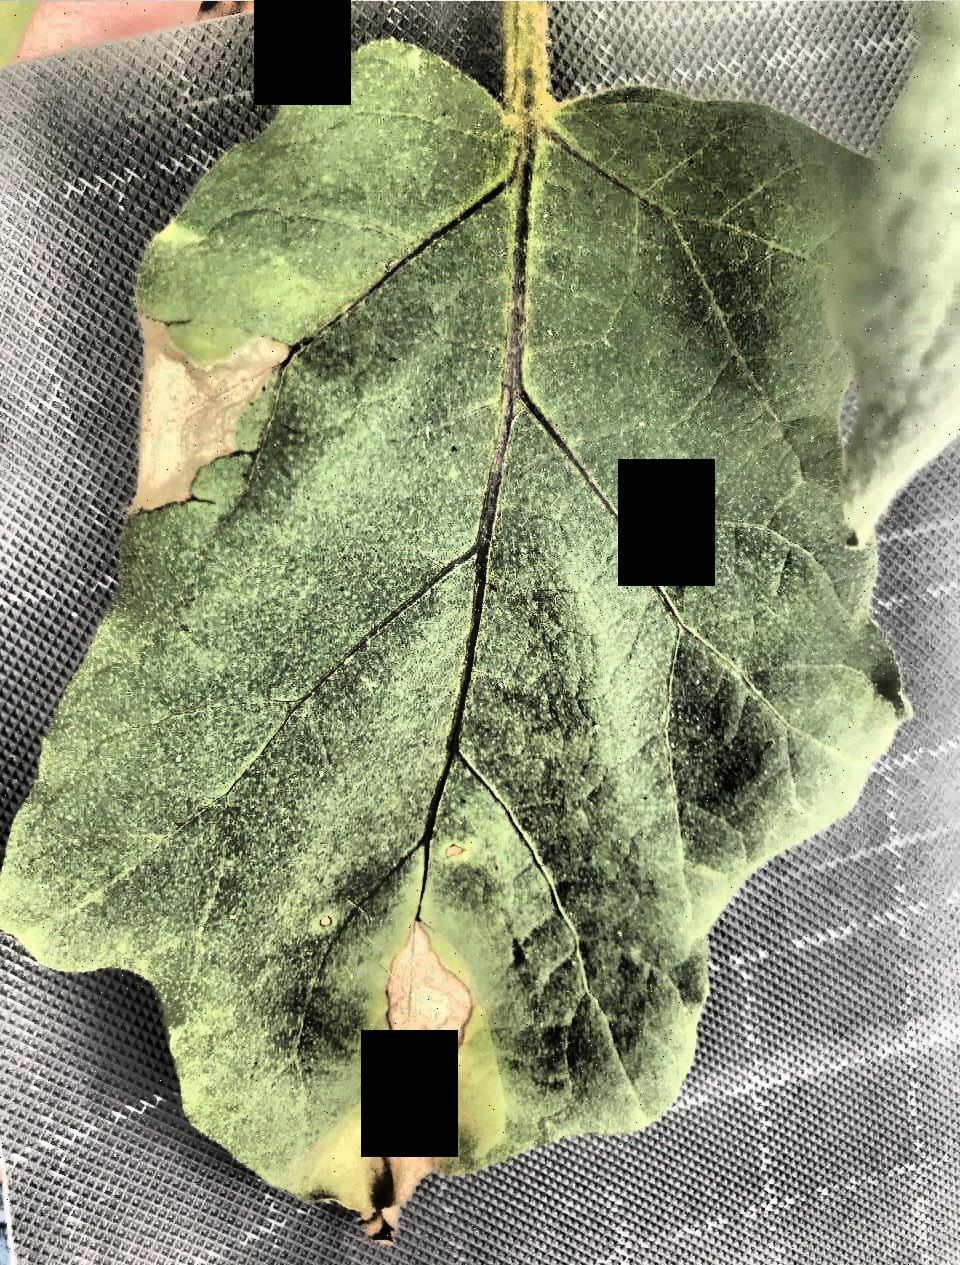Critical Stress: (0, 0, 960, 1265)
